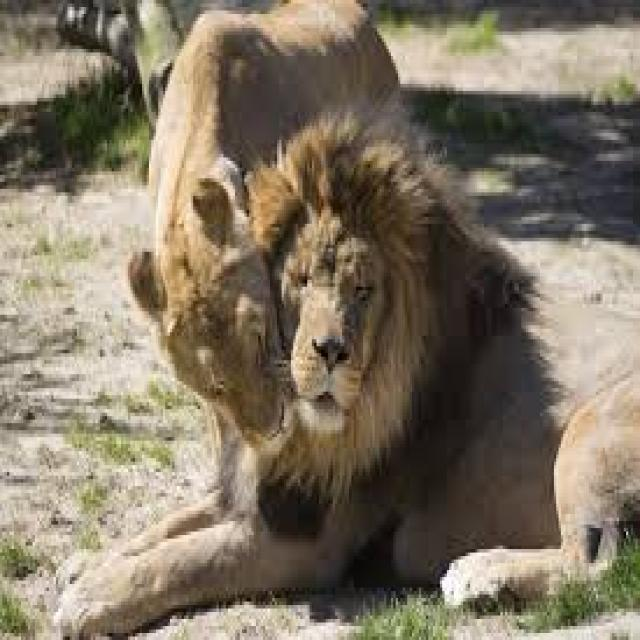Lion: (48, 2, 638, 637)
